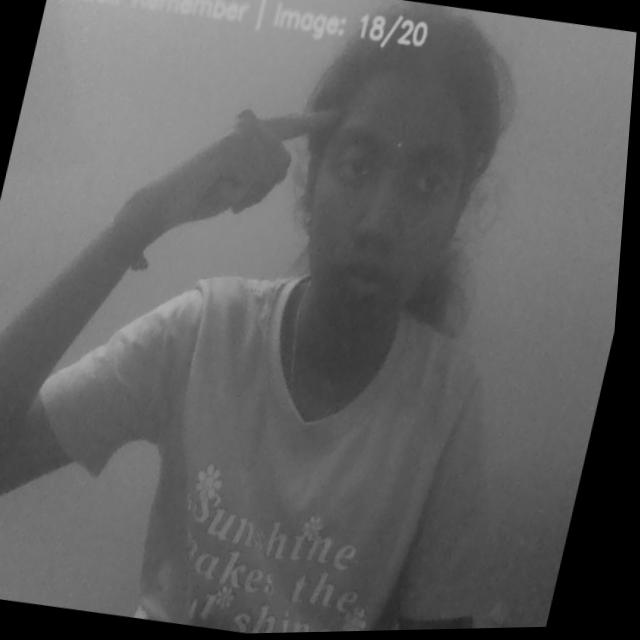Remember: (114, 75, 349, 280)
